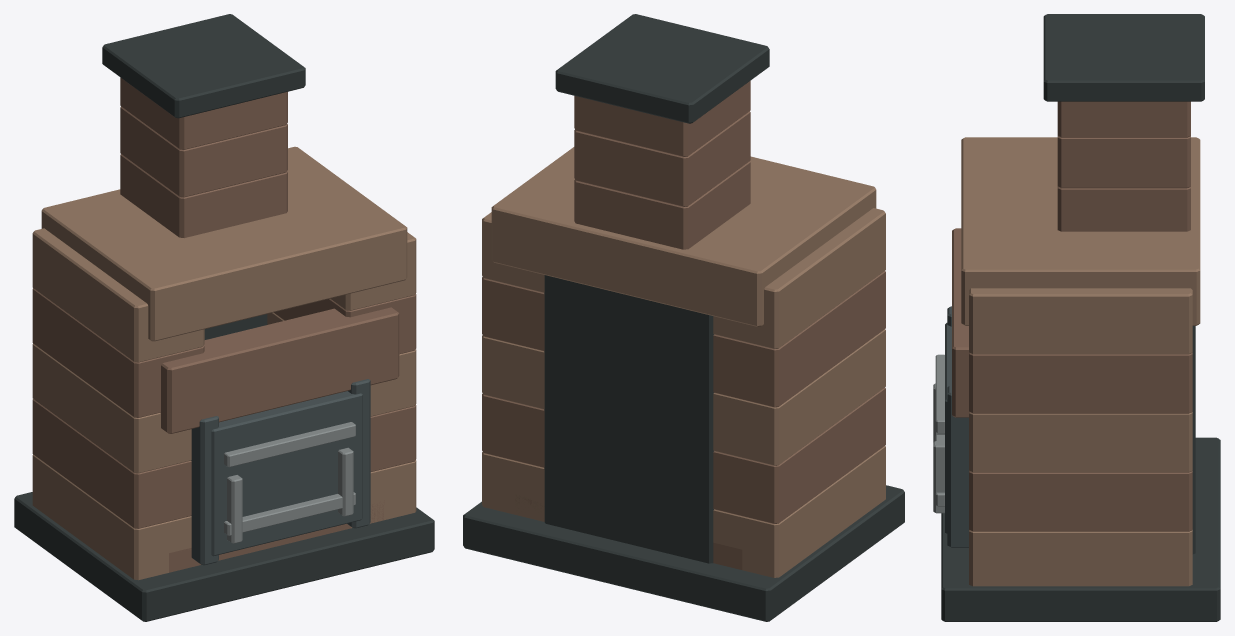
The model's file is brick-furnace.glb.
3 renders of one model, left to right at view 1: azimuth 30°, elevation 25°; view 2: azimuth 150°, elevation 25°; view 3: azimuth 270°, elevation 25°, orthographic. The views are drawn at different scales.
Visible parts, largest first — view 1: brick-furnace__body; view 2: brick-furnace__body; view 3: brick-furnace__body.
Boxes of the visible parts, bbox=[...] form: brick-furnace__body: bbox=[14, 14, 434, 621]; brick-furnace__body: bbox=[463, 14, 904, 621]; brick-furnace__body: bbox=[933, 14, 1220, 621].
Bounding box in the file's own units: 1.16 × 1.77 × 0.925.
